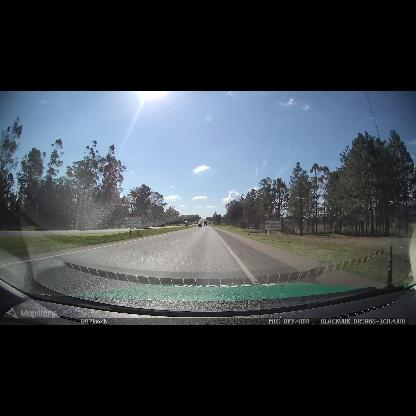I-SA: (265, 220, 281, 230), (127, 217, 141, 226)
